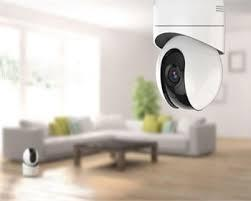maru: (154, 32, 229, 114)
